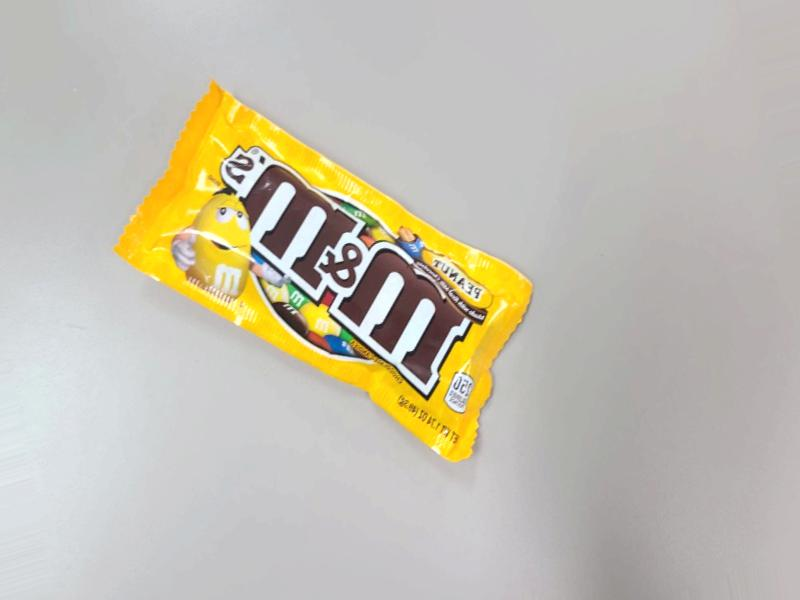m&m: (162, 89, 480, 451)
